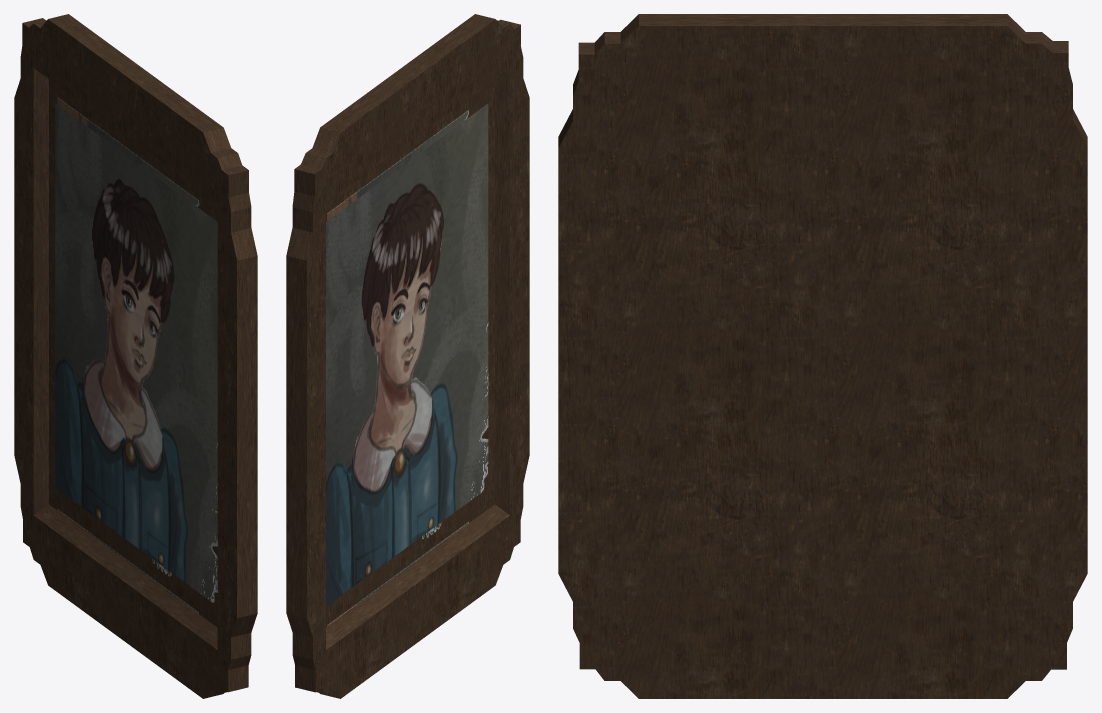
File: GameJam Bilderrahmen 2 Gemälde 2 .fbx
The picture shows the model from 3 angles, left to right: view 1: azimuth 30°, elevation 25°; view 2: azimuth 150°, elevation 25°; view 3: azimuth 270°, elevation 25°; orthographic projection. The views are drawn at different scales.
Parts seen in each view (by area): view 1: Bilderrahmen; view 2: Bilderrahmen; view 3: Bilderrahmen.
Boxes of the visible parts, bbox=[...] form: Bilderrahmen: bbox=[14, 14, 257, 698]; Bilderrahmen: bbox=[286, 14, 529, 698]; Bilderrahmen: bbox=[558, 14, 1087, 698].
Size of the model in its own units: 9.83 by 259 by 185.
